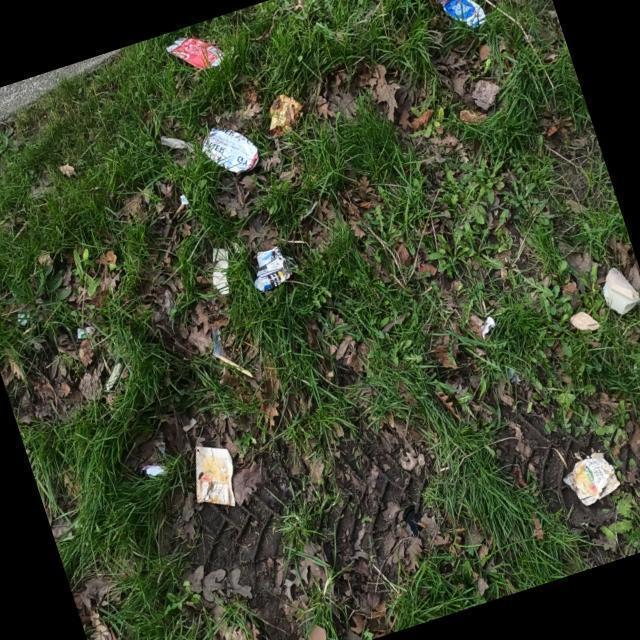Can-Metal: (202, 126, 260, 174), (166, 36, 224, 70), (440, 0, 488, 28)
Paper: (253, 245, 293, 293), (603, 266, 640, 316)
Plastic: (562, 450, 621, 507), (196, 445, 236, 508)
